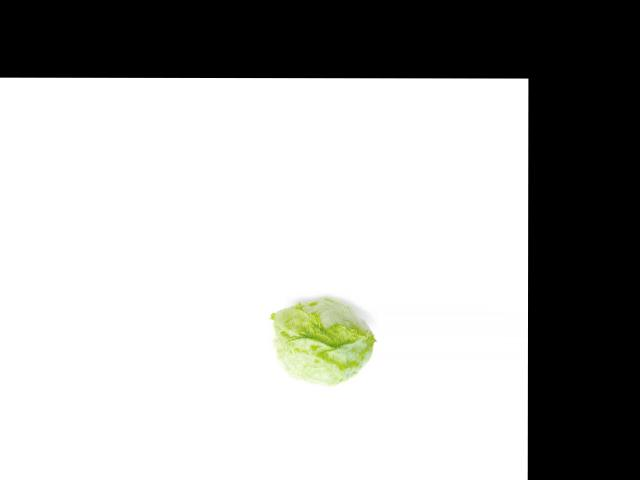lettuce: (271, 292, 374, 392)
